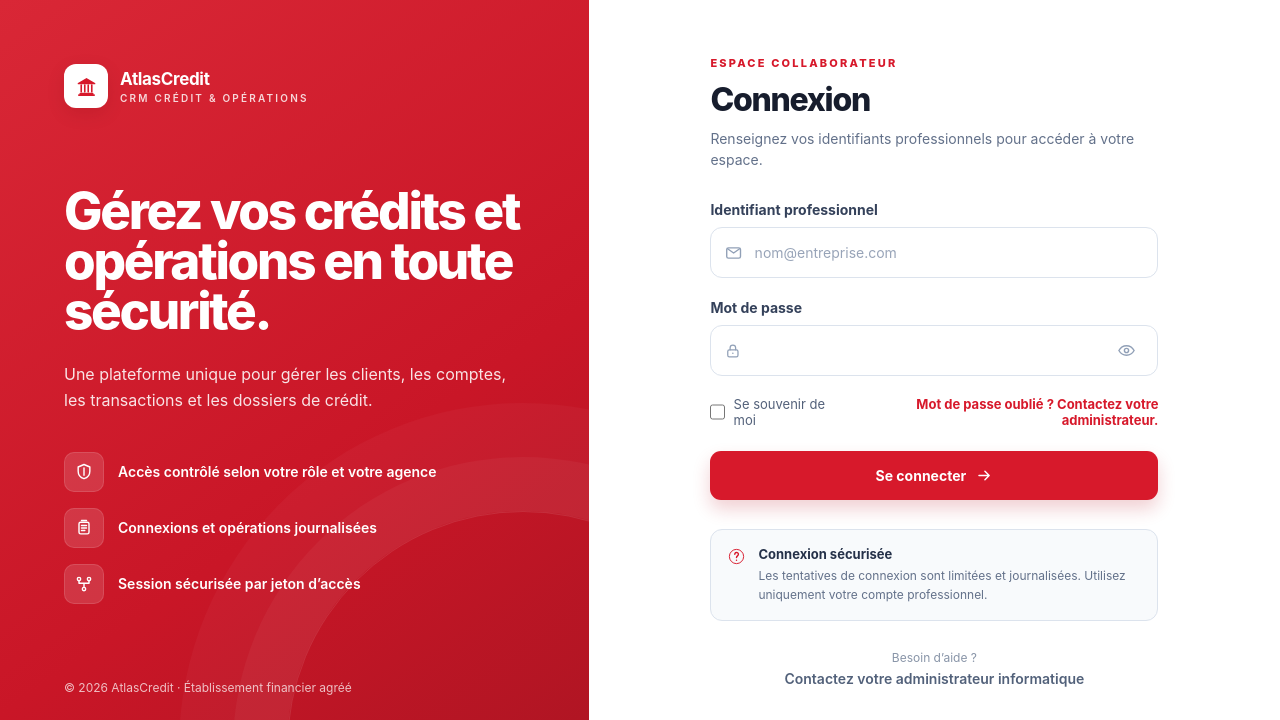
Test: signs in with the Laravel contract and opens the protected session view
This screenshot has width=1280, height=720.
Step 1. Type "aminata@example.test" into the field labelled "Identifiant professionnel" → (943, 253), box 743,228 -> 1143,277
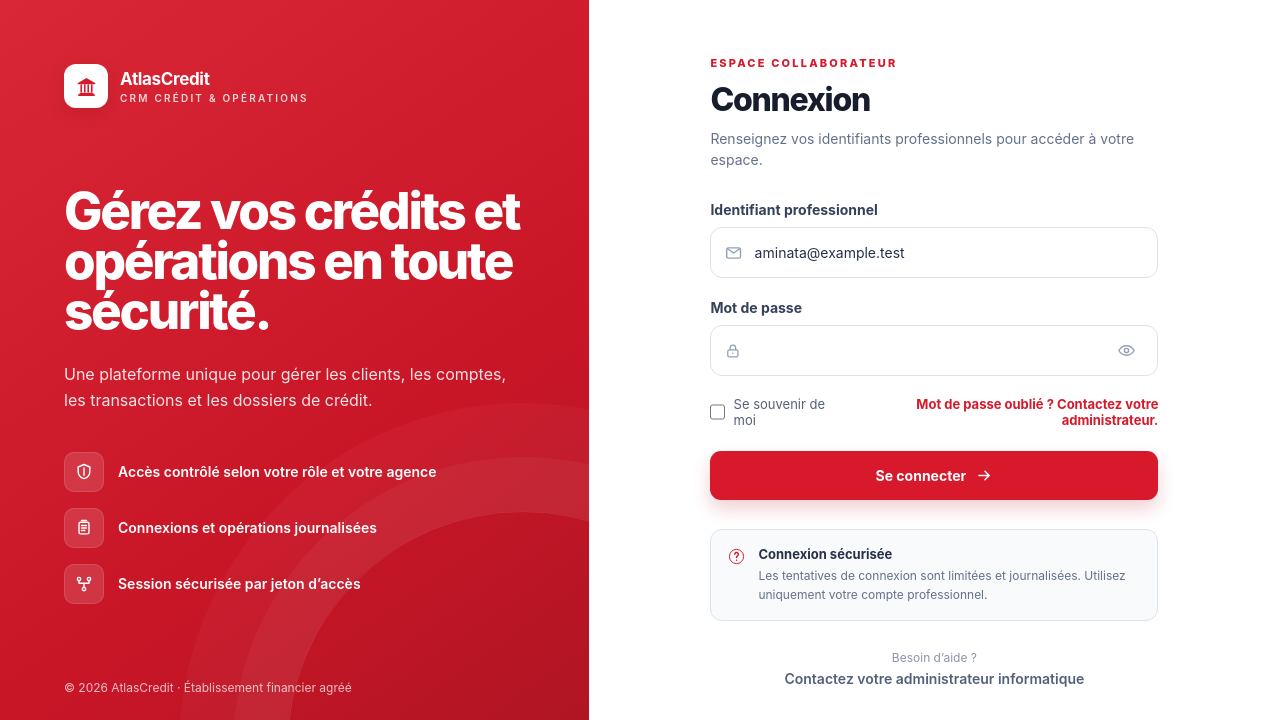
Step 2. Type "correct-password" into the password field labelled "Mot de passe" → (925, 351), box 741,326 -> 1109,375
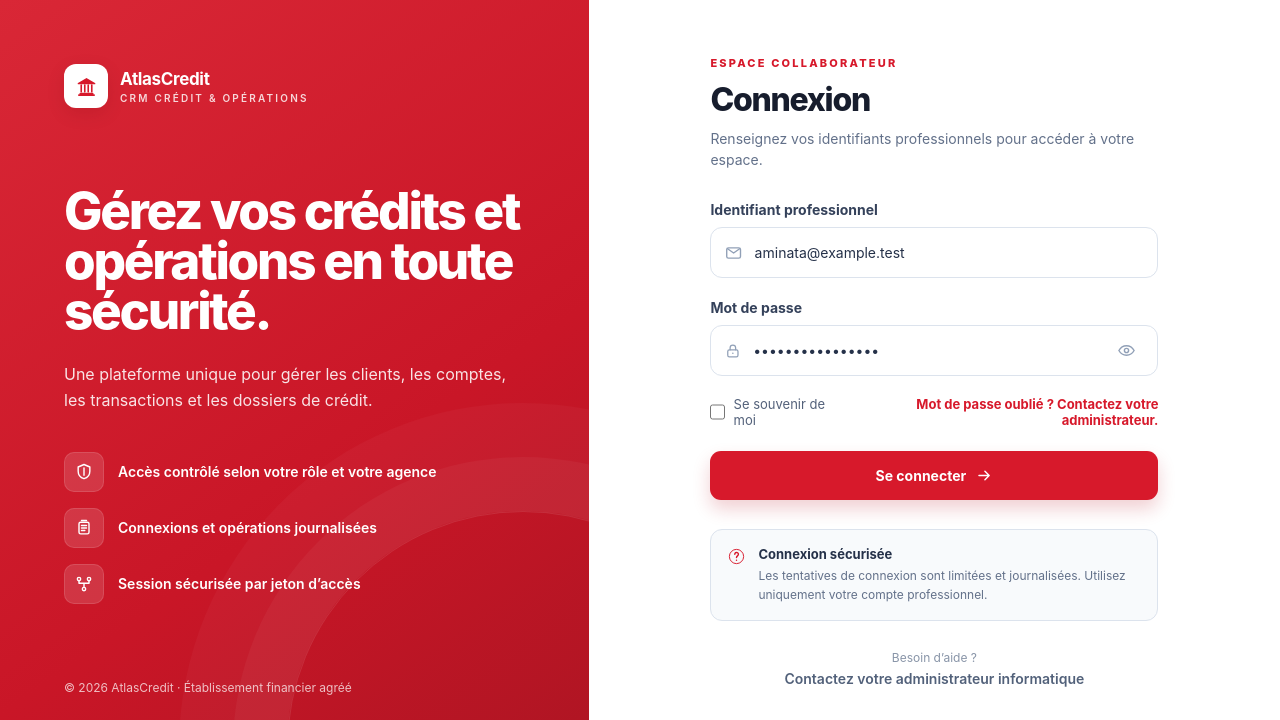
Step 3. Click the checkbox labelled "Se souvenir de moi" → (718, 412), box 710,404 -> 725,420
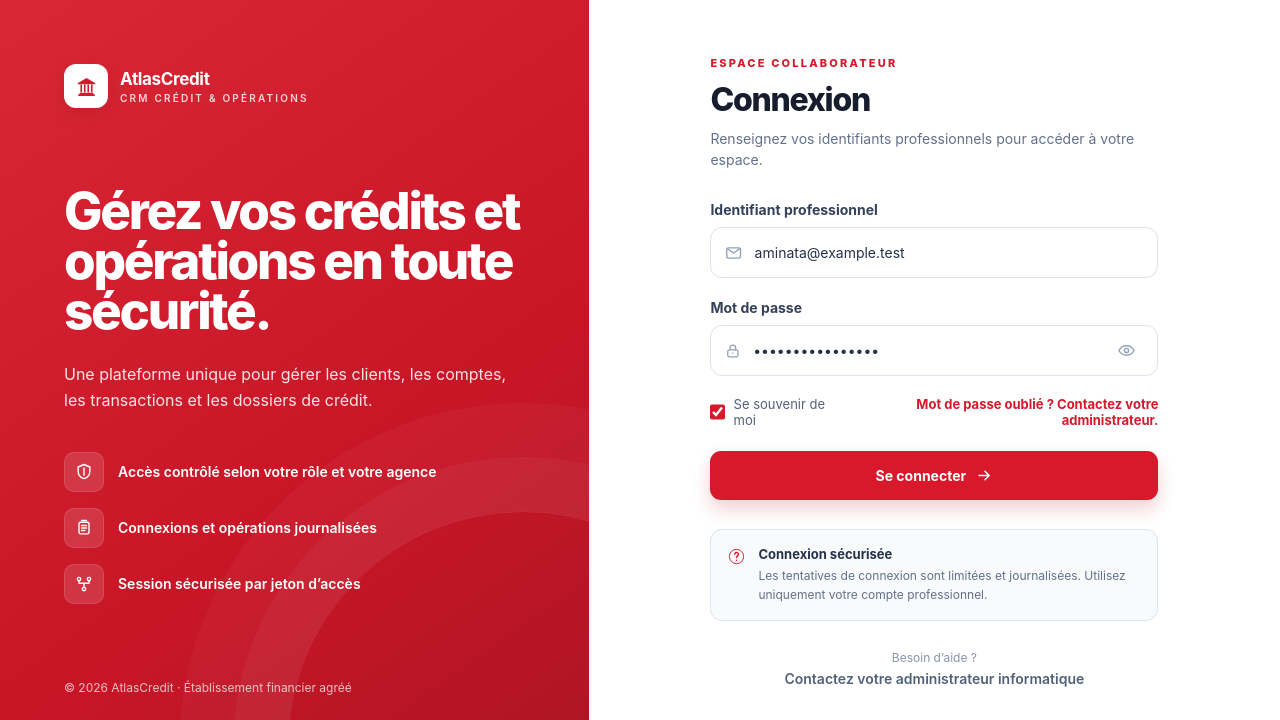
Step 4. Click the button "Se connecter" → (934, 476), box 710,451 -> 1158,500
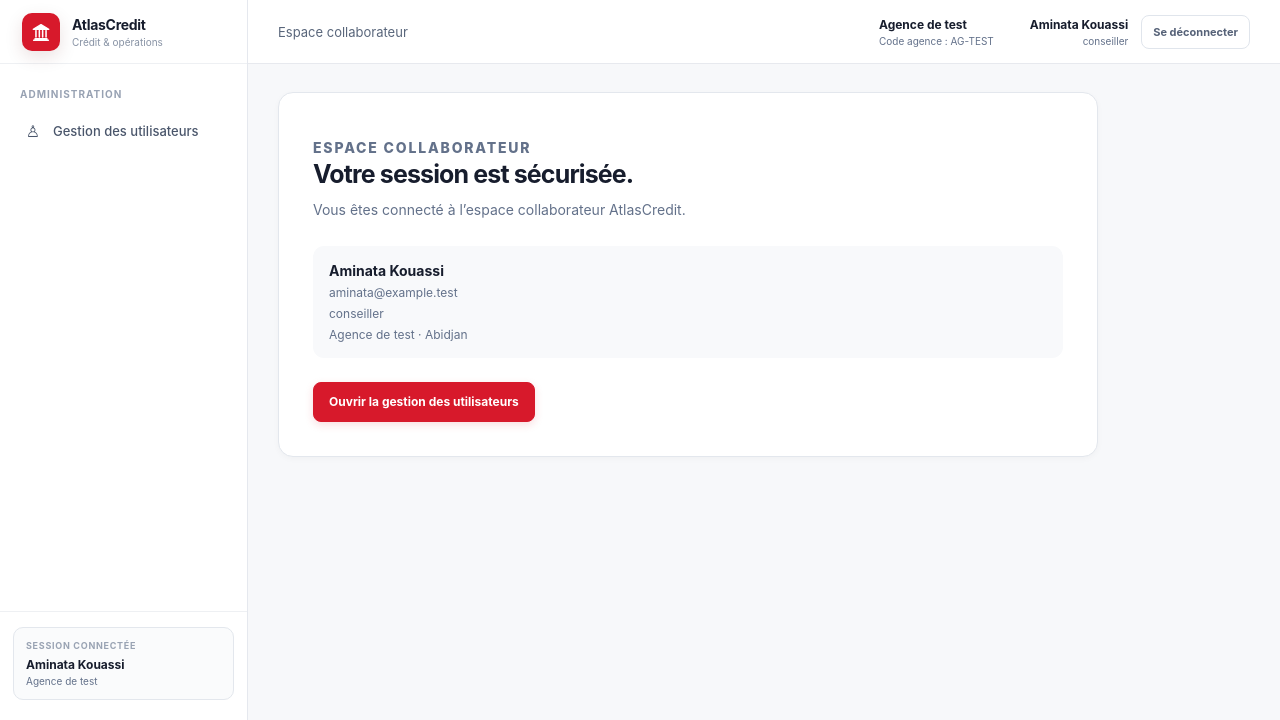
expect the heading "Votre session est sécurisée." is shown: met, box 313,159 -> 633,189
